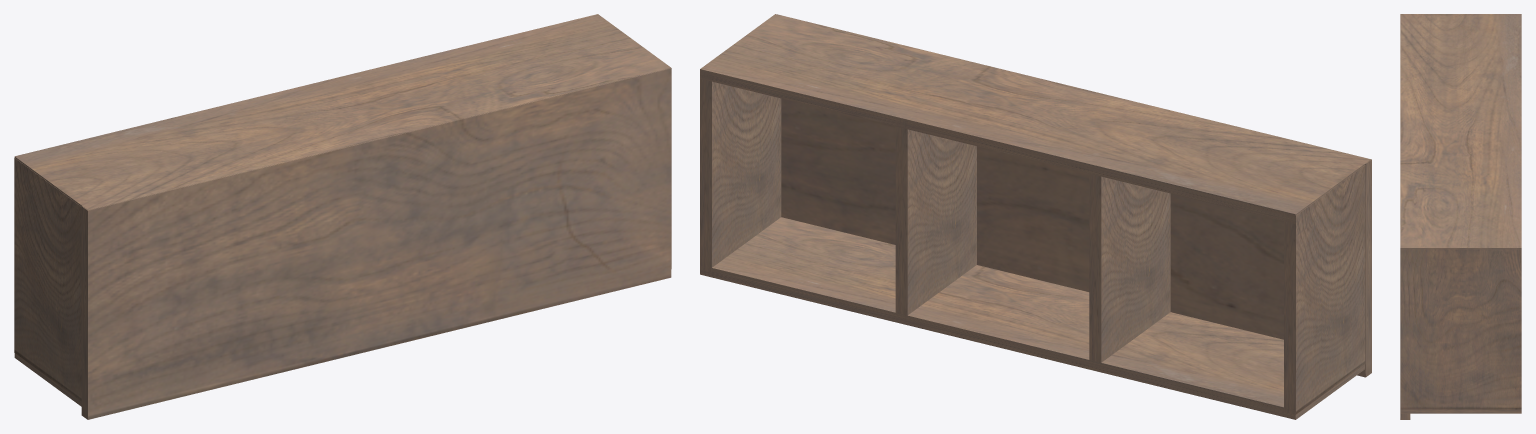
File: Cabinet.fbx
The picture shows the model from 3 angles, left to right: view 1: azimuth 30°, elevation 25°; view 2: azimuth 150°, elevation 25°; view 3: azimuth 270°, elevation 25°; orthographic projection. The views are drawn at different scales.
Visible parts, largest first — view 1: Cabinet1; view 2: Cabinet1; view 3: Cabinet1.
Boxes of the visible parts, bbox=[...] form: Cabinet1: bbox=[14, 14, 671, 419]; Cabinet1: bbox=[700, 14, 1371, 419]; Cabinet1: bbox=[1400, 14, 1521, 419].
Bounding box in the file's own units: 23.06 × 7.9 × 5.06.
